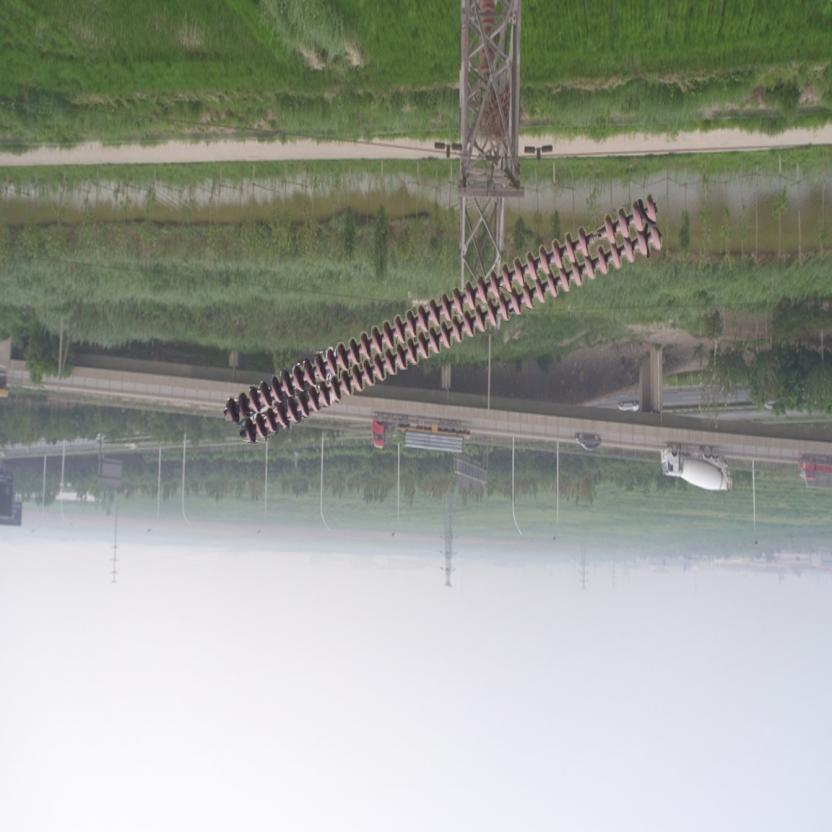defect: (572, 216, 620, 260)
